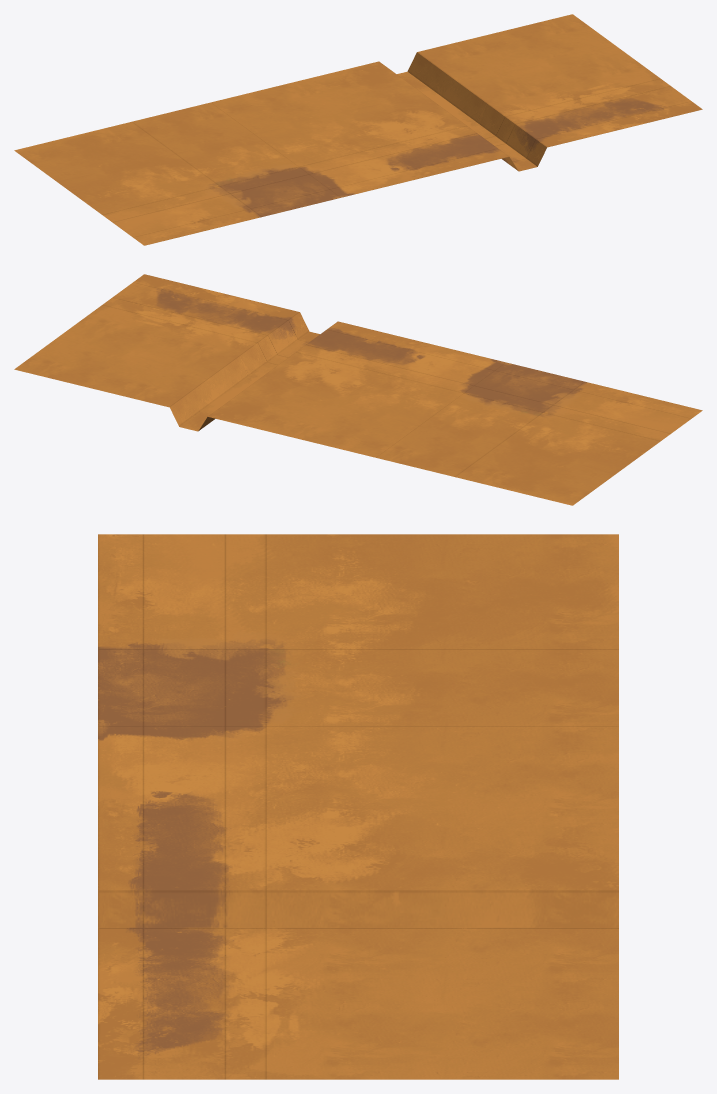
File: Ground_Plane.glb
The picture shows the model from 3 angles, top to bottom: view 1: azimuth 30°, elevation 25°; view 2: azimuth 150°, elevation 25°; view 3: azimuth 270°, elevation 25°; orthographic projection. The views are drawn at different scales.
Visible parts, largest first — view 1: GroundPlane; view 2: GroundPlane; view 3: GroundPlane.
Part boxes in pixels (<box>): GroundPlane: <box>14,14,702,245</box>; GroundPlane: <box>14,274,702,505</box>; GroundPlane: <box>98,534,618,1079</box>.
Bounding box in the file's own units: 20.16 × 0.5918 × 8.15.
Materials: 1 (1 with a texture image).
